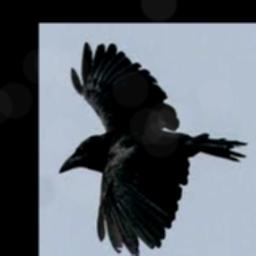Crow: (58, 43, 248, 256)
